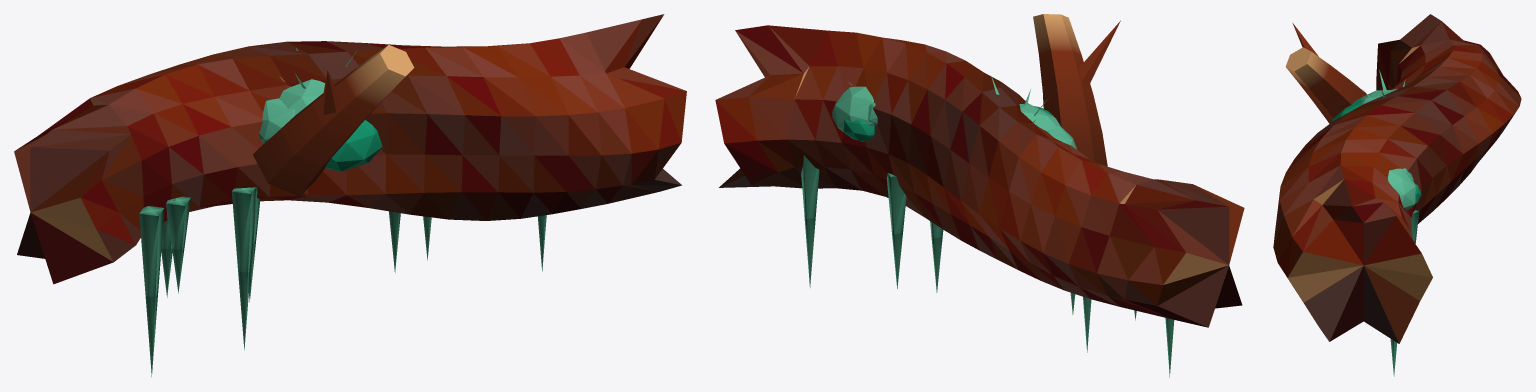
Rendered from pohon_tumbang_bridge_redwood_282345.glb.
3 renders of one model, left to right at view 1: azimuth 30°, elevation 25°; view 2: azimuth 150°, elevation 25°; view 3: azimuth 270°, elevation 25°, orthographic. The views are drawn at different scales.
Parts seen in each view (by area): view 1: Batang_Melintang_Sungai; view 2: Batang_Melintang_Sungai; view 3: Batang_Melintang_Sungai.
Part boxes in pixels (<box>): Batang_Melintang_Sungai: <box>14,14,686,376</box>; Batang_Melintang_Sungai: <box>715,14,1244,377</box>; Batang_Melintang_Sungai: <box>1273,14,1521,376</box>.
Size of the model in its own units: 5.16 by 2.71 by 2.4.
